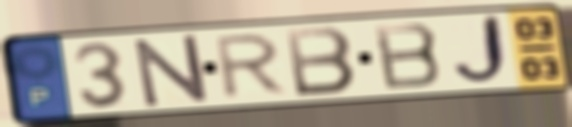3: (72, 39, 133, 112)
B: (281, 24, 360, 99), (370, 20, 446, 93)
J: (448, 12, 514, 89)
N: (130, 32, 213, 110)
R: (213, 31, 292, 102)
